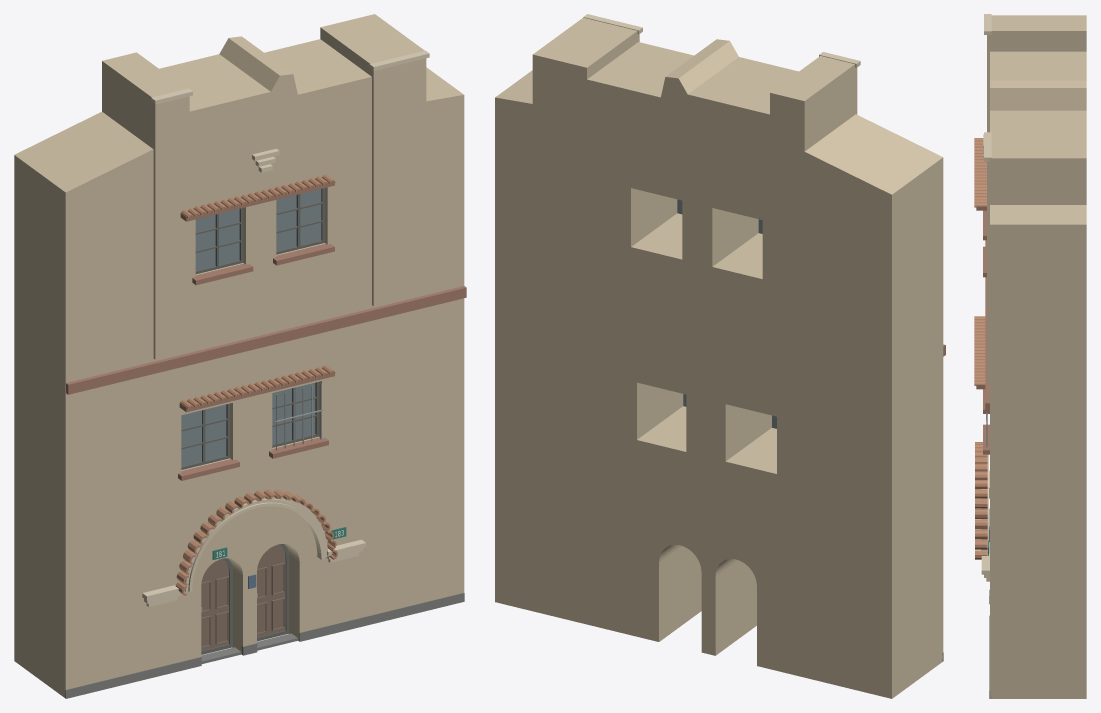
The model's file is xuhui-remi-apartments-181-183-lod.glb.
The picture shows the model from 3 angles, left to right: view 1: azimuth 30°, elevation 25°; view 2: azimuth 150°, elevation 25°; view 3: azimuth 270°, elevation 25°; orthographic projection. The views are drawn at different scales.
Visible parts, largest first — view 1: 永康新村永康路181、183号双门山墙; view 2: 永康新村永康路181、183号双门山墙; view 3: 永康新村永康路181、183号双门山墙.
Boxes of the visible parts, bbox=[...] form: 永康新村永康路181、183号双门山墙: bbox=[14, 14, 466, 698]; 永康新村永康路181、183号双门山墙: bbox=[495, 14, 945, 698]; 永康新村永康路181、183号双门山墙: bbox=[974, 14, 1086, 698].
Size of the model in its own units: 7.81 by 10.85 by 2.03.
